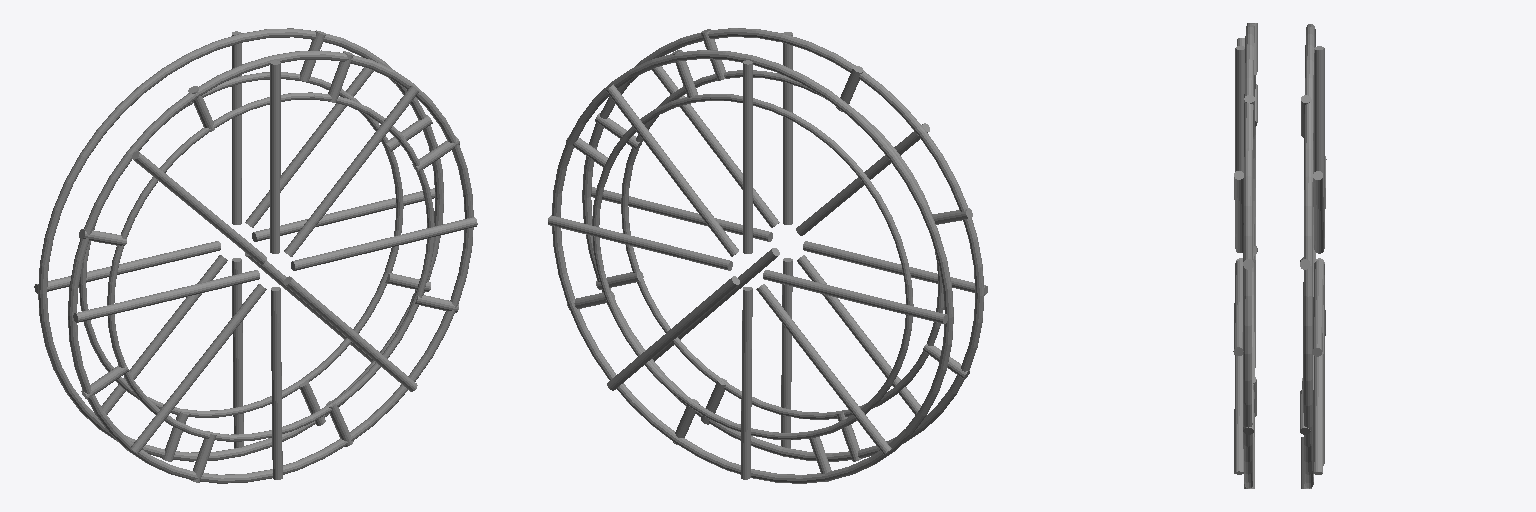
File: rueda_fortuna_parteUno_pruebaUno.obj
3 views of the same model, side by side, from view 1: azimuth 30°, elevation 25°; view 2: azimuth 150°, elevation 25°; view 3: azimuth 270°, elevation 25° (orthographic).
Parts seen in each view (by area): view 1: Wheel1_Torus001, Wheel2_Torus_002, Wheel1_001_Torus_001, Wheel2_001_Torus_001, Brazo_mini_015_Cylinder_001, Brazo_mini_011_Cylinder_001, Brazo_mini_008_Cylinder_001, Brazo_mini_012_Cylinder_001, Brazo_mini_014_Cylinder_001, Brazo_mini_010_Cylinder_001, Brazo_mini_009_Cylinder_001, Brazo_mini_013_Cylinder_001 (+7 smaller); view 2: Wheel2_Torus_002, Wheel1_Torus001, Wheel2_001_Torus_001, Wheel1_001_Torus_001, Brazo_mini_007_Cylinder_001, Brazo_mini_003_Cylinder_001, Brazo_mini_004_Cylinder_001, Brazo_mini_Cylinder_001, Brazo_mini_006_Cylinder_001, Brazo_mini_002_Cylinder_001, Brazo_mini_005_Cylinder_001, Brazo_mini_015_Cylinder_001 (+7 smaller); view 3: Wheel1_Torus001, Wheel2_Torus_002, Brazo_mini_Cylinder_001, Brazo_mini_005_Cylinder_001, Brazo_mini_008_Cylinder_001, Brazo_mini_013_Cylinder_001, Brazo_mini_006_Cylinder_001, Brazo_mini_007_Cylinder_001, Brazo_mini_014_Cylinder_001, Brazo_mini_015_Cylinder_001, Wheel1_001_Torus_001.
Part boxes in pixels (x1,y1,x2,y2): Wheel1_Torus001: (68,50,473,483); Wheel2_Torus_002: (38,28,443,461); Wheel1_001_Torus_001: (107,92,434,441); Wheel2_001_Torus_001: (79,72,403,417); Brazo_mini_015_Cylinder_001: (284,86,418,256); Brazo_mini_011_Cylinder_001: (131,284,266,453); Brazo_mini_008_Cylinder_001: (270,60,280,253); Brazo_mini_012_Cylinder_001: (271,287,282,479); Brazo_mini_014_Cylinder_001: (291,217,477,270); Brazo_mini_010_Cylinder_001: (73,270,259,322); Brazo_mini_009_Cylinder_001: (132,151,266,264); Brazo_mini_013_Cylinder_001: (284,276,417,391); Wheel2_Torus_002: (552,50,953,483); Wheel1_Torus001: (582,28,984,461); Wheel2_001_Torus_001: (592,94,913,439); Wheel1_001_Torus_001: (621,70,943,419); Brazo_mini_007_Cylinder_001: (606,84,738,256); Brazo_mini_003_Cylinder_001: (756,284,891,454); Brazo_mini_004_Cylinder_001: (741,287,752,479); Brazo_mini_Cylinder_001: (743,60,752,253); Brazo_mini_006_Cylinder_001: (548,215,732,270); Brazo_mini_002_Cylinder_001: (763,270,947,323); Brazo_mini_005_Cylinder_001: (607,276,739,390); Brazo_mini_015_Cylinder_001: (652,66,779,227); Wheel1_Torus001: (1243,24,1255,487); Wheel2_Torus_002: (1303,24,1315,488); Brazo_mini_Cylinder_001: (1314,46,1324,237); Brazo_mini_005_Cylinder_001: (1313,305,1323,474); Brazo_mini_008_Cylinder_001: (1235,46,1244,172); Brazo_mini_013_Cylinder_001: (1234,355,1243,474); Brazo_mini_006_Cylinder_001: (1312,260,1323,356); Brazo_mini_007_Cylinder_001: (1313,171,1323,253); Brazo_mini_014_Cylinder_001: (1233,260,1243,355); Brazo_mini_015_Cylinder_001: (1234,171,1243,252); Wheel1_001_Torus_001: (1252,79,1254,389).
Size of the model in its own units: 15.25 by 15.24 by 3.04.